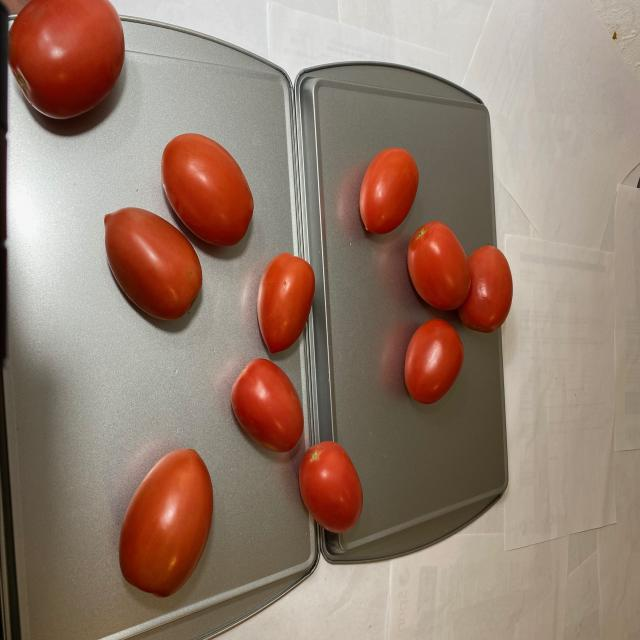tomato: (8, 2, 361, 595), (359, 144, 513, 406)
